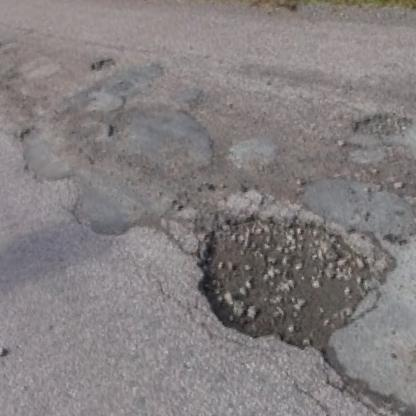pothole: (185, 185, 388, 359), (348, 104, 416, 148), (89, 53, 115, 72)
